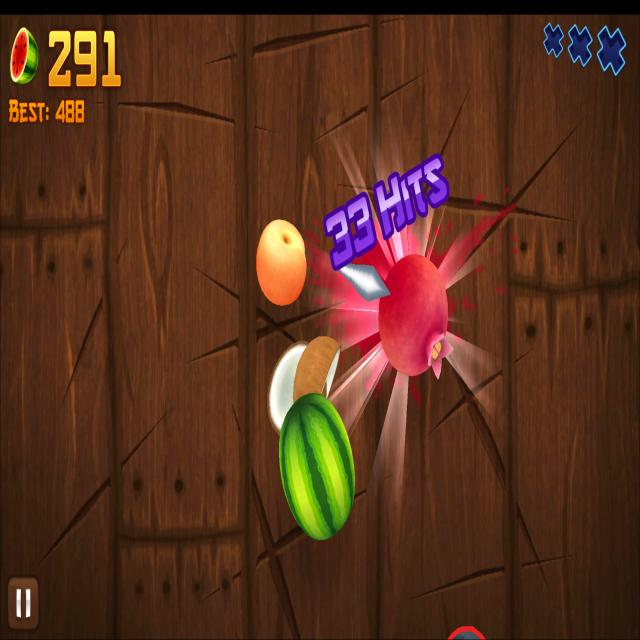bomb: (448, 625, 486, 640)
fruit: (278, 391, 358, 541), (378, 252, 448, 382), (255, 218, 308, 308)
